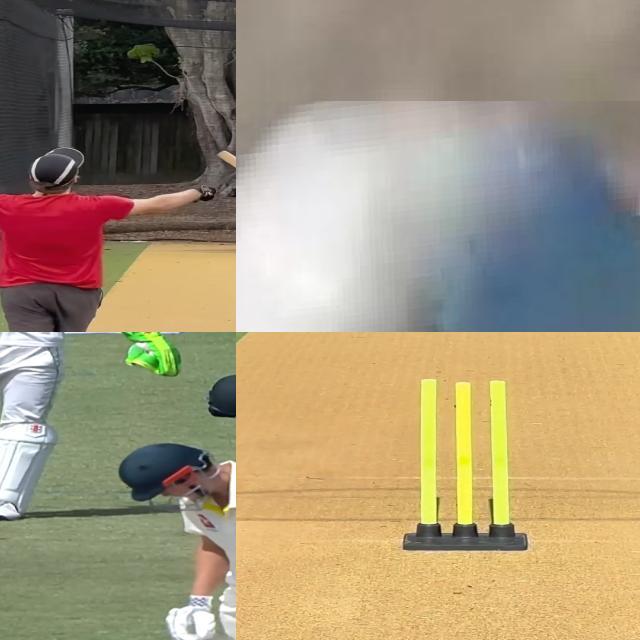Cricket ball: (236, 101, 640, 332), (234, 210, 236, 217)
Stumps: (399, 378, 527, 552)
